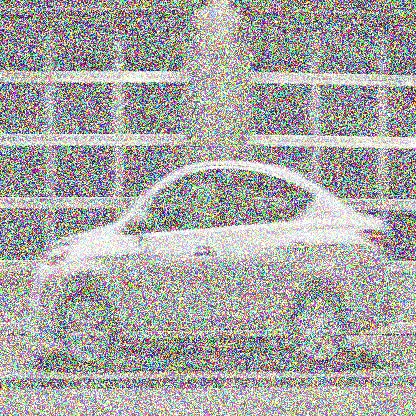Vehicle: (25, 154, 396, 371)
